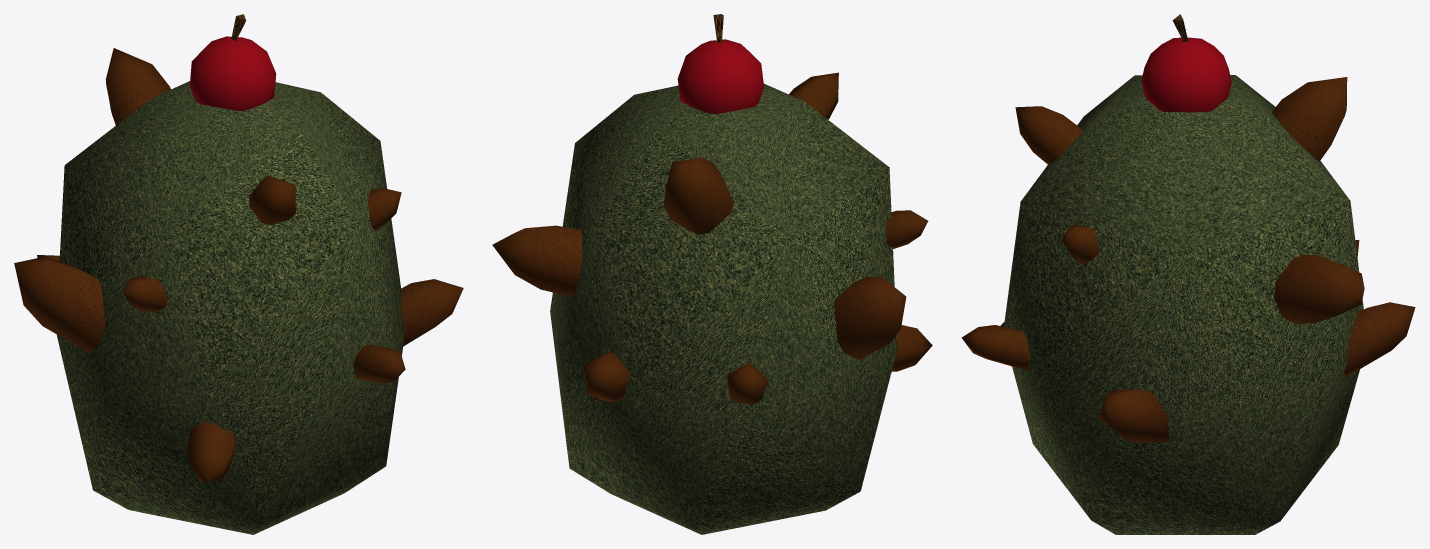
Rendered from tree3.obj.
3 views of the same model, side by side, from view 1: azimuth 30°, elevation 25°; view 2: azimuth 150°, elevation 25°; view 3: azimuth 270°, elevation 25° (orthographic). The views are drawn at different scales.
Parts seen in each view (by area): view 1: Icosphere, Icosphere.012_Icosphere.036, Icosphere.006; view 2: Icosphere, Icosphere.012_Icosphere.036, Icosphere.006; view 3: Icosphere, Icosphere.012_Icosphere.036, Icosphere.006.
Boxes of the visible parts, x1,y1,x2,y2 form: Icosphere: (56,81,404,534); Icosphere.012_Icosphere.036: (14,48,463,481); Icosphere.006: (189,36,276,110); Icosphere: (550,83,897,534); Icosphere.012_Icosphere.036: (492,72,932,405); Icosphere.006: (677,39,763,113); Icosphere: (1004,75,1363,534); Icosphere.012_Icosphere.036: (961,77,1415,442); Icosphere.006: (1141,37,1231,112).
Bounding box in the file's own units: 0.9112 × 1.09 × 0.8977.
Materials: 4 (4 with a texture image).
